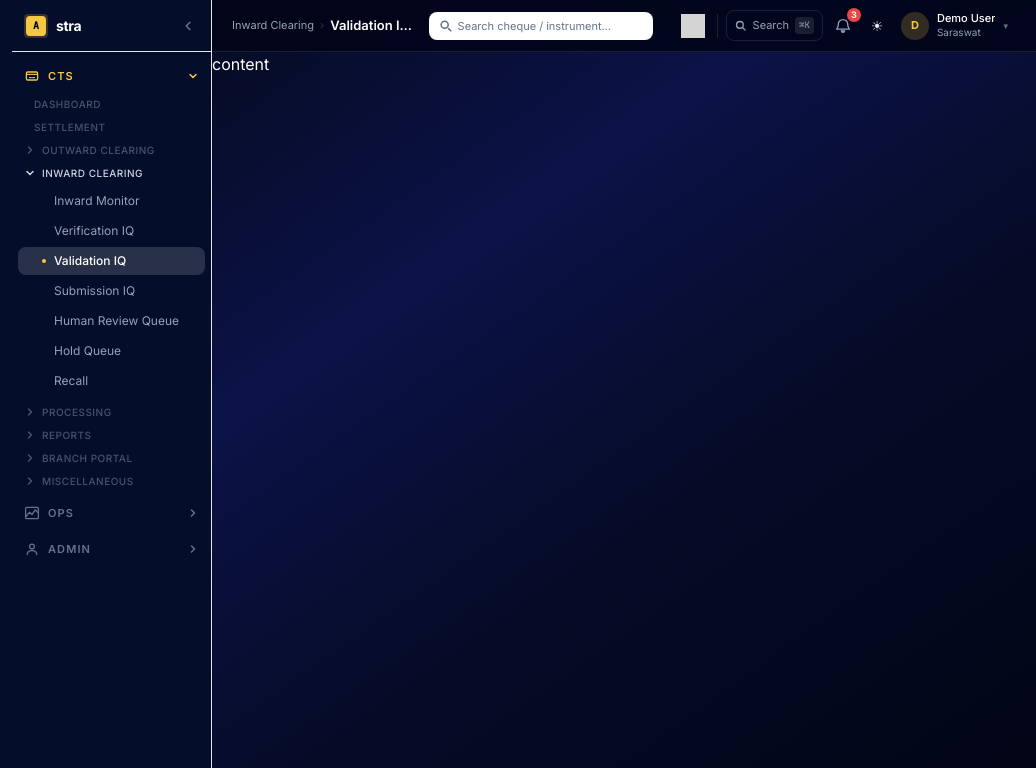
Test: AppShell sidebar navigation › expands sidebar from collapsed state
Click the button titled "Collapse sidebar": click(188, 26) [177,14,199,36]
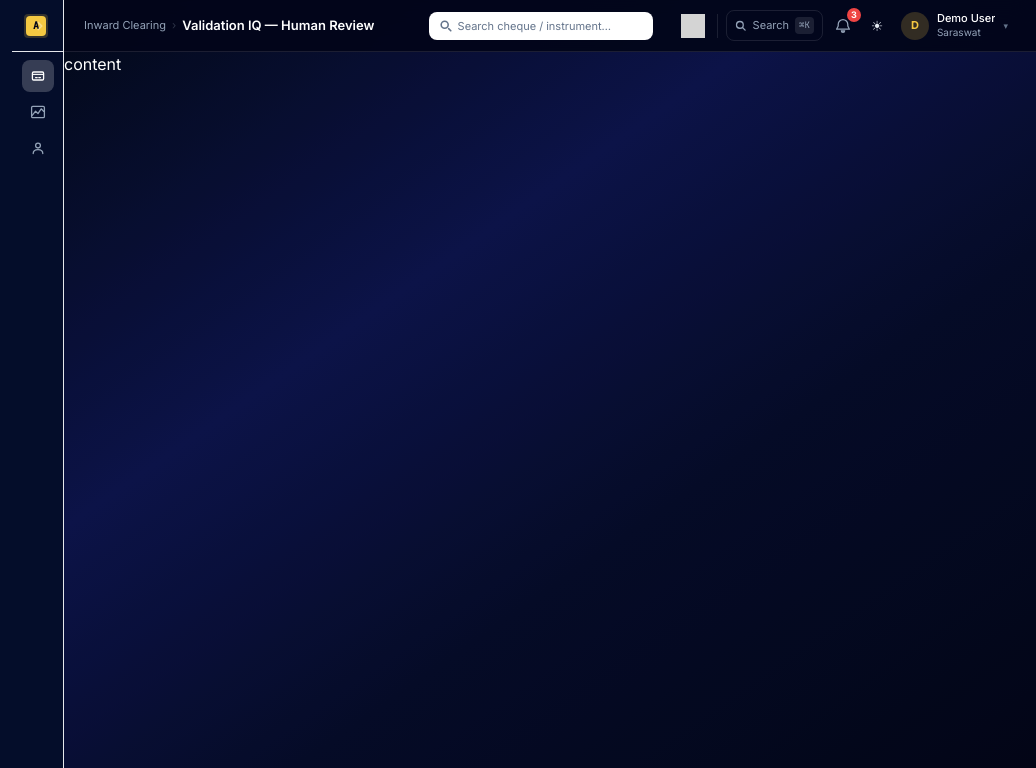
Click the button titled "Expand sidebar": click(40, 26) [29,14,51,36]
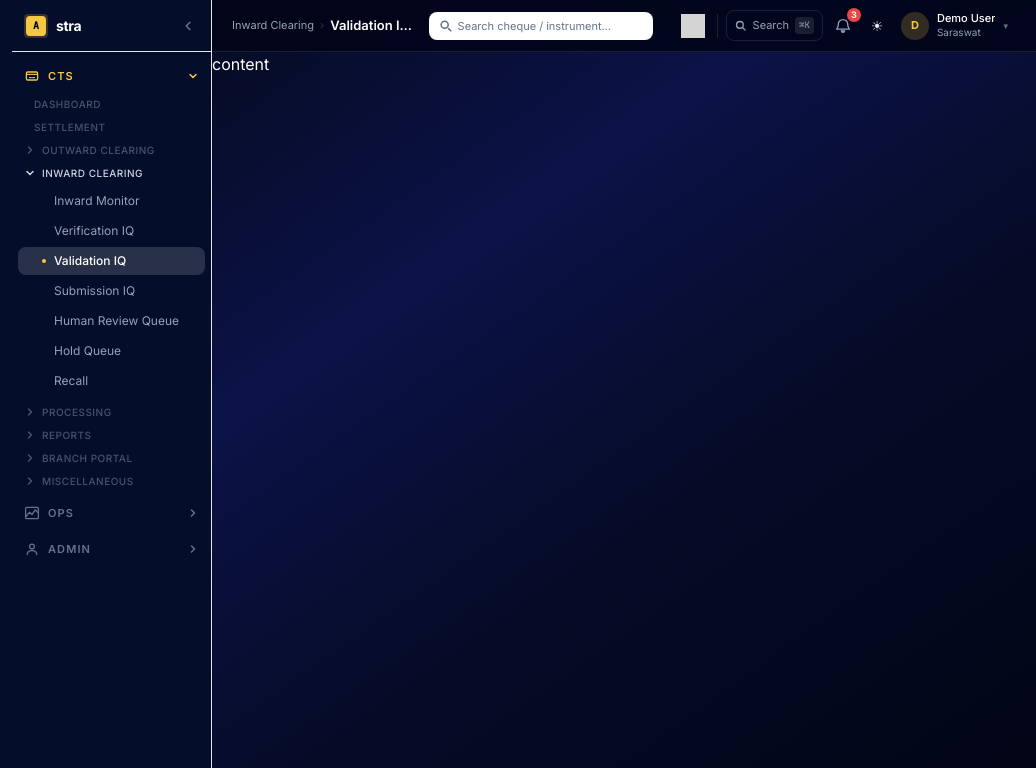
Now the text "Human Review Queue" is shown, box [42,312,179,328]
